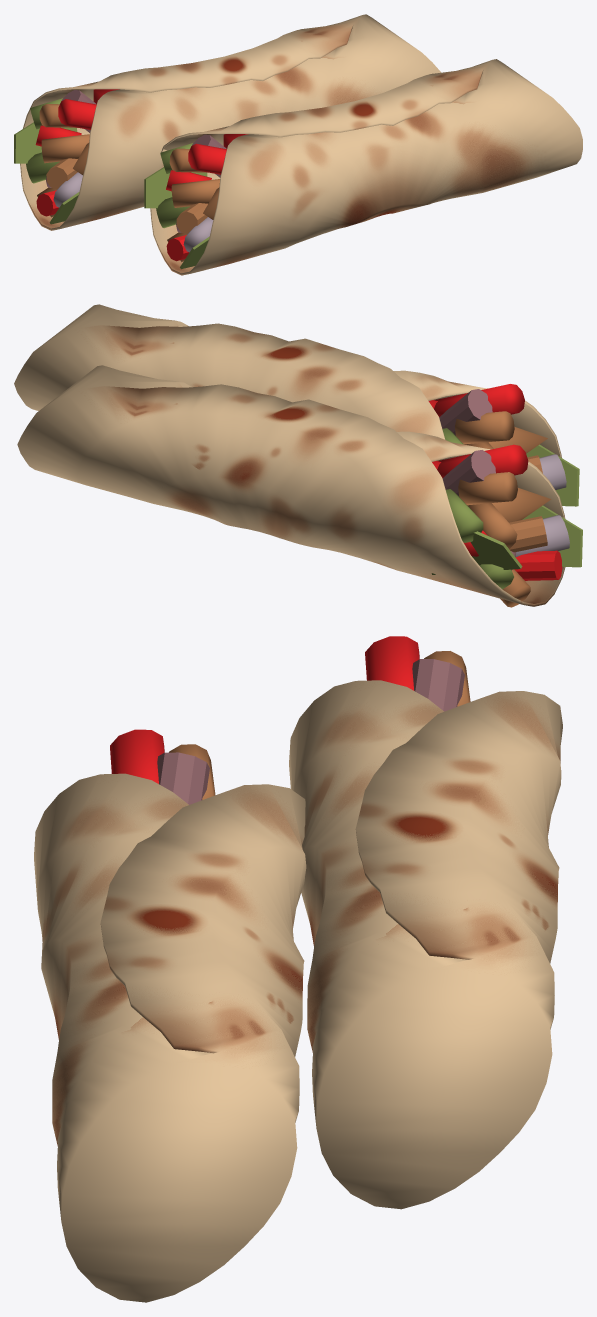
Rendered from Shawarma.glb.
The picture shows the model from 3 angles, top to bottom: view 1: azimuth 30°, elevation 25°; view 2: azimuth 150°, elevation 25°; view 3: azimuth 270°, elevation 25°; orthographic projection. The views are drawn at different scales.
Parts seen in each view (by area): view 1: Circle.002, Circle.001; view 2: Circle.001, Circle.002; view 3: Circle.002, Circle.001.
Boxes of the visible parts, box(x1,y1,x2,y2) form: Circle.002: box(144, 59, 582, 275); Circle.001: box(14, 14, 440, 230); Circle.001: box(17, 365, 582, 607); Circle.002: box(14, 304, 579, 506); Circle.002: box(34, 729, 306, 1302); Circle.001: box(289, 636, 562, 1209).
Bounding box in the file's own units: 2.35 × 0.6352 × 1.14.
6 materials, 1 textured.
